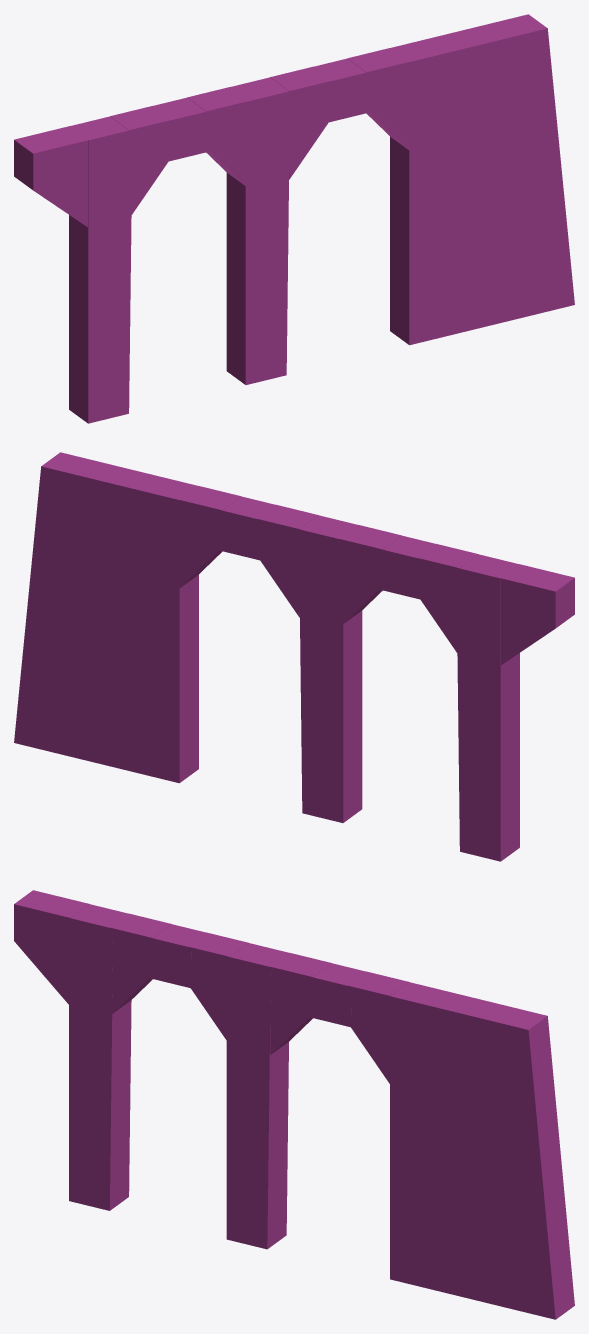
File: SM_Prop_Ruins_Archway_01_Collision.fbx
3 views of the same model, one above another, from view 1: azimuth 30°, elevation 25°; view 2: azimuth 150°, elevation 25°; view 3: azimuth 330°, elevation 25° (orthographic).
Parts seen in each view (by area): view 1: SM_Prop_Ruins_Archway_01_Collision; view 2: SM_Prop_Ruins_Archway_01_Collision; view 3: SM_Prop_Ruins_Archway_01_Collision.
Part boxes in pixels (x1=…): SM_Prop_Ruins_Archway_01_Collision: x1=14, y1=14, x2=574, y2=423; SM_Prop_Ruins_Archway_01_Collision: x1=14, y1=452, x2=574, y2=861; SM_Prop_Ruins_Archway_01_Collision: x1=14, y1=890, x2=574, y2=1319.
Bounding box in the file's own units: 774 × 387 × 47.71.
